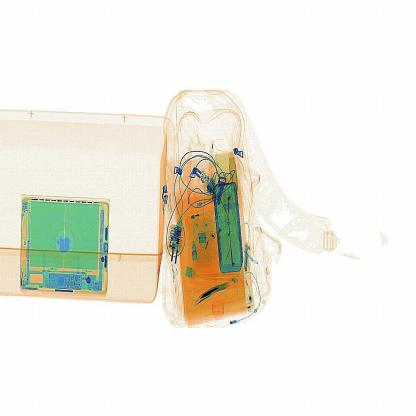wrench: (190, 286, 233, 307)
